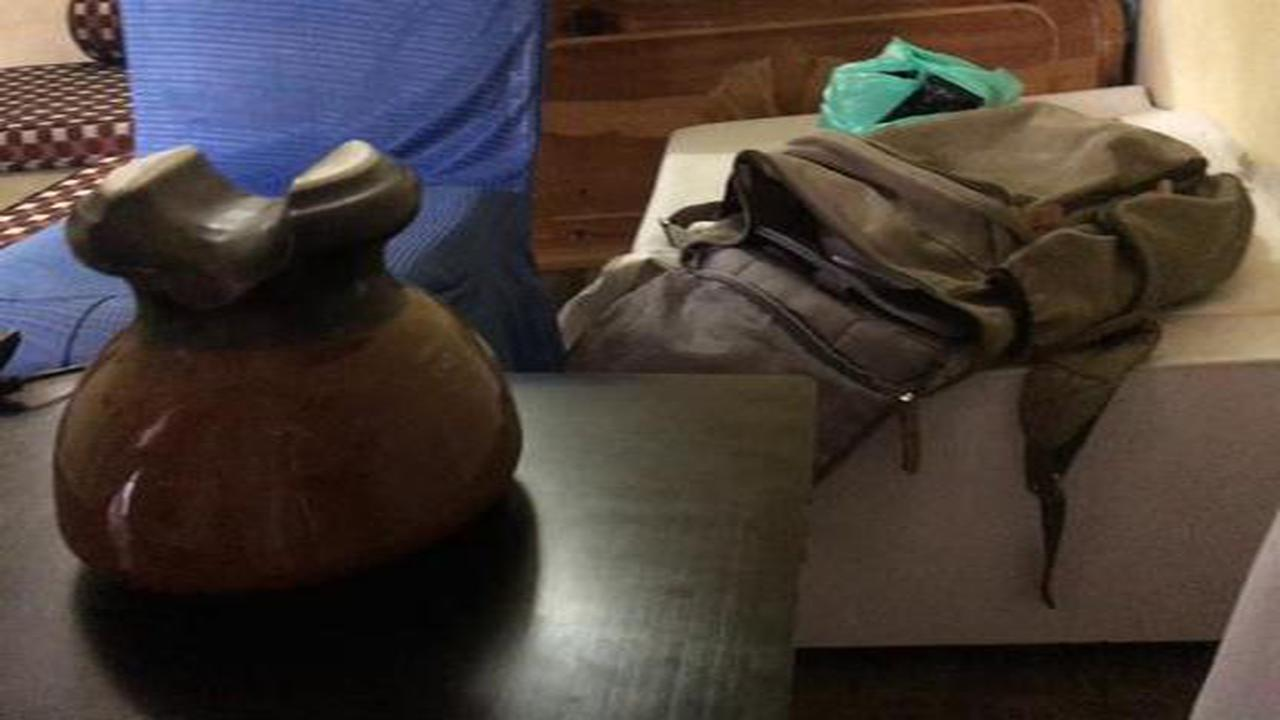insulator_pin: (50, 132, 536, 615)
